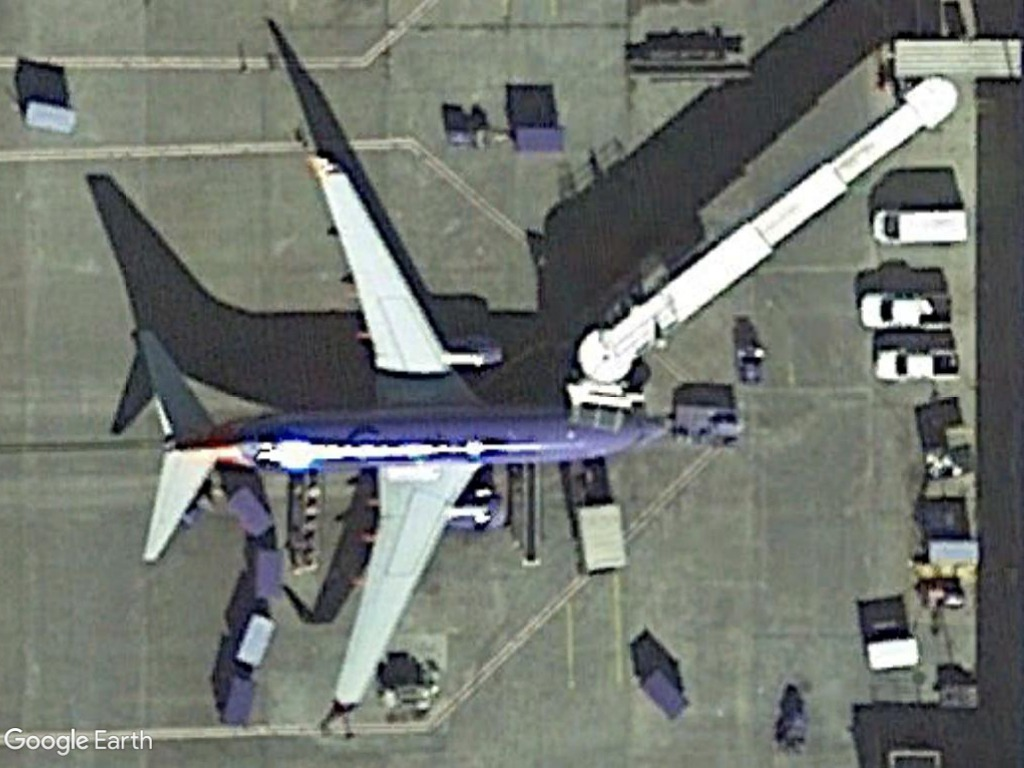airliner: (110, 149, 665, 723)
car: (870, 343, 962, 385)
other: (852, 286, 954, 334)
van: (867, 205, 972, 248)
